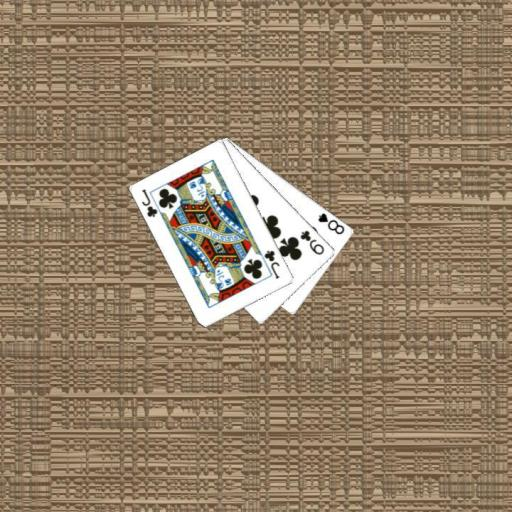8S: (315, 210, 346, 236)
9C: (298, 227, 327, 257)
JC: (261, 247, 282, 280), (139, 186, 159, 219)
